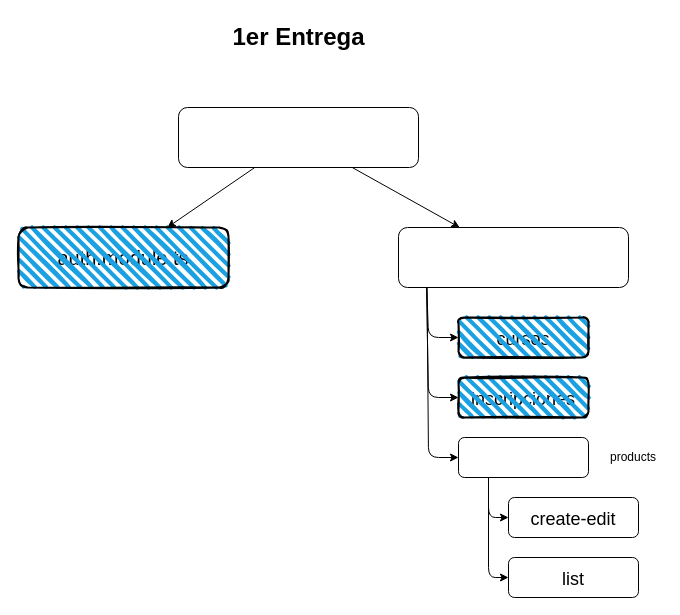
Image size: 680x615. Some labels were removed from this diagram. Here are the shapes that lost their labels. From the top down, the centre of each, then its label:
At (x=298, y=137): "app.module.ts".
At (x=513, y=257): "dashboard.module.ts".
At (x=523, y=457): "students".
